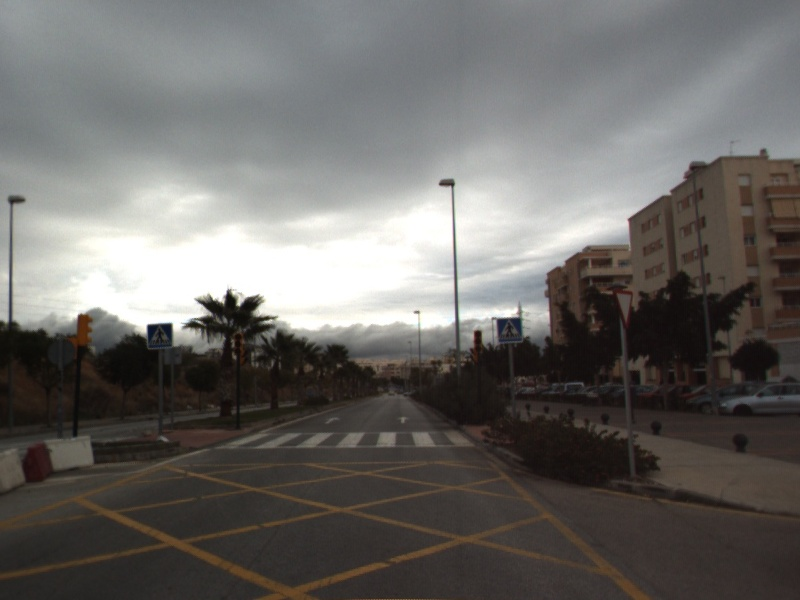STRAIGHT: (323, 415, 342, 425), (395, 415, 411, 425)
